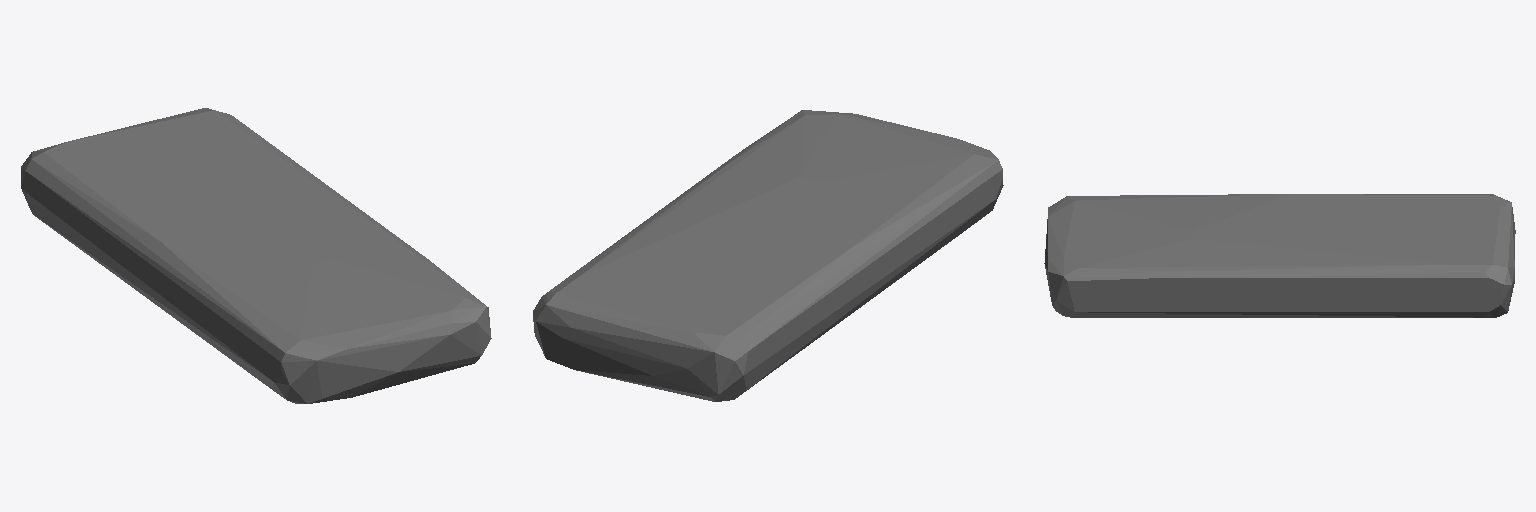
robot.urdf — cellphone_013:
<?xml version="1.0" ?>
<robot name="cellphone_013">
  <material name="color">
    <color rgba=".5 .5 .5 1"/>
  </material>

  <link name="base_link">
    <contact>
      <lateral_friction value="1.0"/>
      <rolling_friction value="0.001"/>
      <spinning_friction value="0.001"/>
      <inertia_scaling value="1.0"/>
    </contact>
    <inertial>
      <origin rpy="0 0 0" xyz="-1.59355e-05 0.00033805 -0.000114345"/>
       <mass value="0.1"/>
       <inertia ixx="1" ixy="0" ixz="0" iyy="1" iyz="0" izz="1"/>
    </inertial>

    <visual>
      <origin rpy="0 0 0" xyz="0 0 0"/>
      <geometry>
        <mesh filename="cellphone_013_vhacd_0_of_1.obj" scale="1 1 1"/>
      </geometry>
      <material name="color"/>
    </visual>

    <collision>
      <origin rpy="0 0 0" xyz="0 0 0"/>
      <geometry>
        <mesh filename="cellphone_013_vhacd_0_of_1.obj" scale="1 1 1"/>
      </geometry>
    </collision>

  </link>
</robot>

--- Render facts (derived) ---
3 views of the same robot in one strip: view 1: azimuth 30°, elevation 25°; view 2: azimuth 150°, elevation 25°; view 3: azimuth 270°, elevation 25° (orthographic).
Robot: cellphone_013 — 1 links, 0 joints (none); root link base_link; default pose: all joints at 0.
Visible links, largest first — view 1: base_link; view 2: base_link; view 3: base_link.
Boxes of the visible links, x1,y1,x2,y2 form: base_link: (21,108,491,403); base_link: (533,110,1003,401); base_link: (1044,194,1515,317).
Bounding box of the posed robot: 0.0501 × 0.1195 × 0.0154 m (x, y, z).
1 mesh visuals loaded from 1 distinct referenced files (1 OBJ).